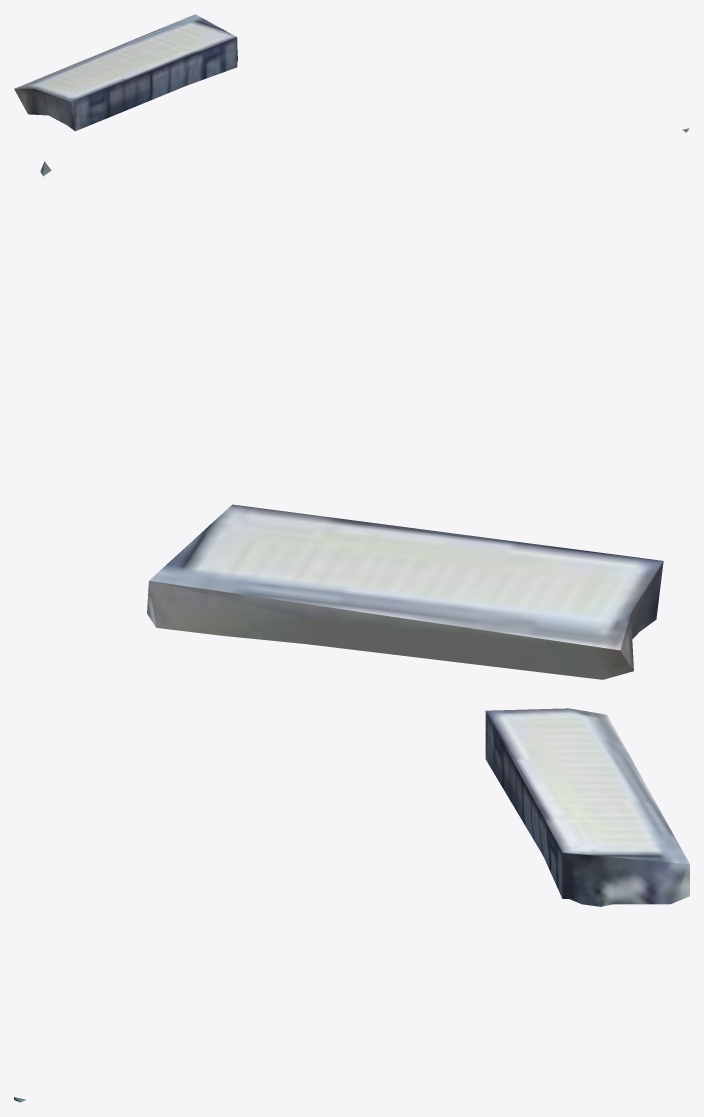
3 views of the same model, one above another, from view 1: azimuth 30°, elevation 25°; view 2: azimuth 150°, elevation 25°; view 3: azimuth 270°, elevation 25° (orthographic). The views are drawn at different scales.
Visible parts, largest first — view 1: 30436272704370405637_0; view 2: 30436272704370405637_0; view 3: 30436272704370405637_0.
Part boxes in pixels (box(x1,y1,x2,y2)): 30436272704370405637_0: box(14, 14, 689, 132); 30436272704370405637_0: box(40, 161, 663, 679); 30436272704370405637_0: box(14, 708, 689, 1102).
Size of the model in its own units: 20.56 by 1.23 by 16.35.
1 material, 1 textured.
